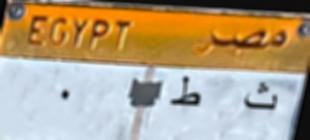0: (51, 81, 77, 110)
Taa: (167, 73, 203, 115)
thaa: (239, 76, 280, 118)
